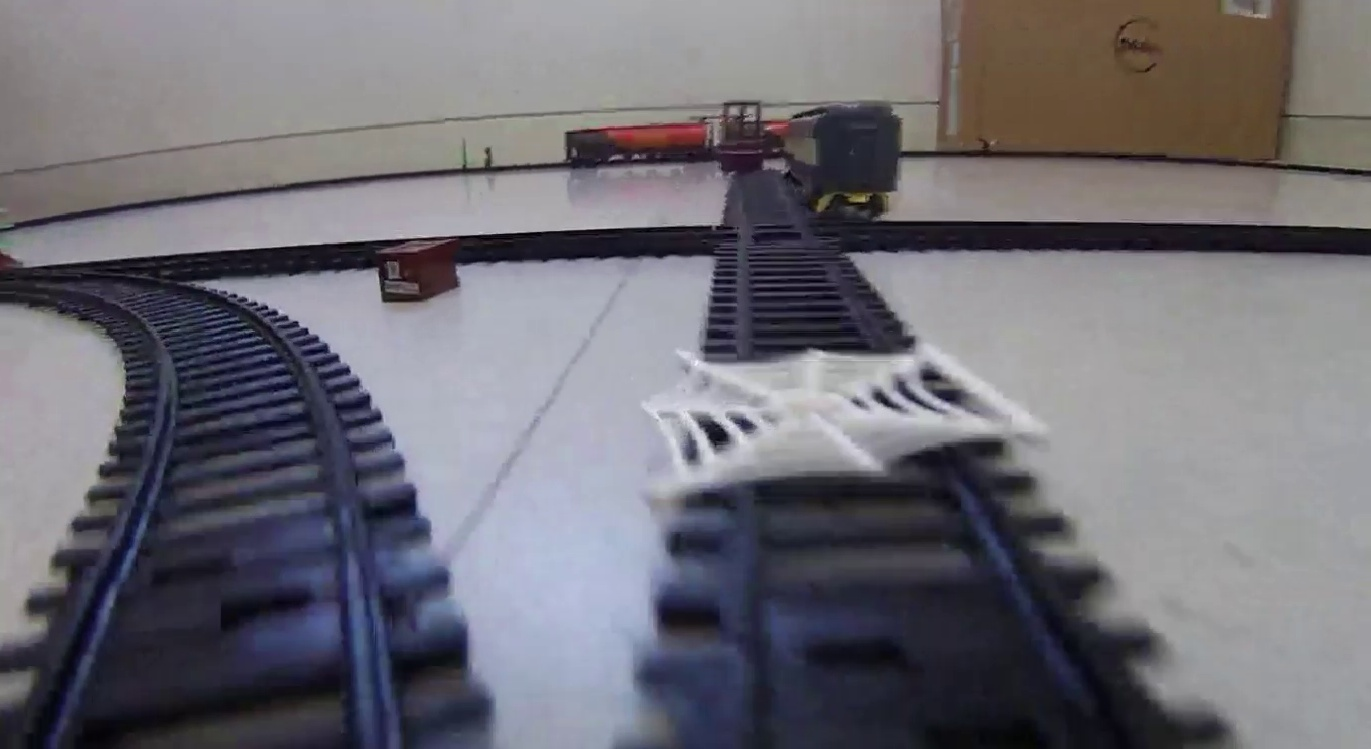box: (377, 241, 461, 305)
web: (660, 342, 1053, 497)
